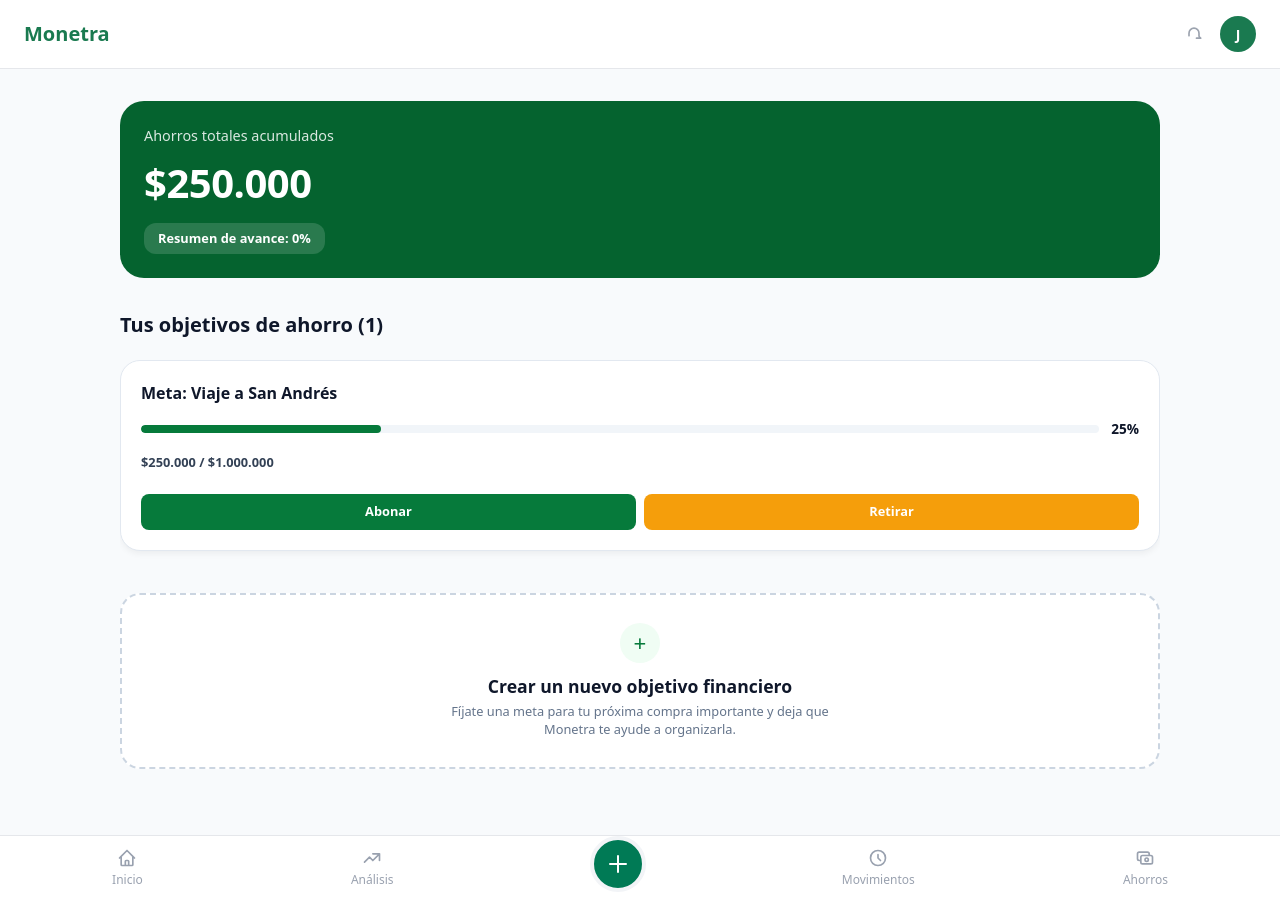
Test case: SavingsView — editar y eliminar una meta › abre el modal de edición con los datos de la meta precargados al hacer clic en la tarjeta
Click the text "Meta: Viaje a San Andrés". click: (239, 393)
box: [141,381,337,405]
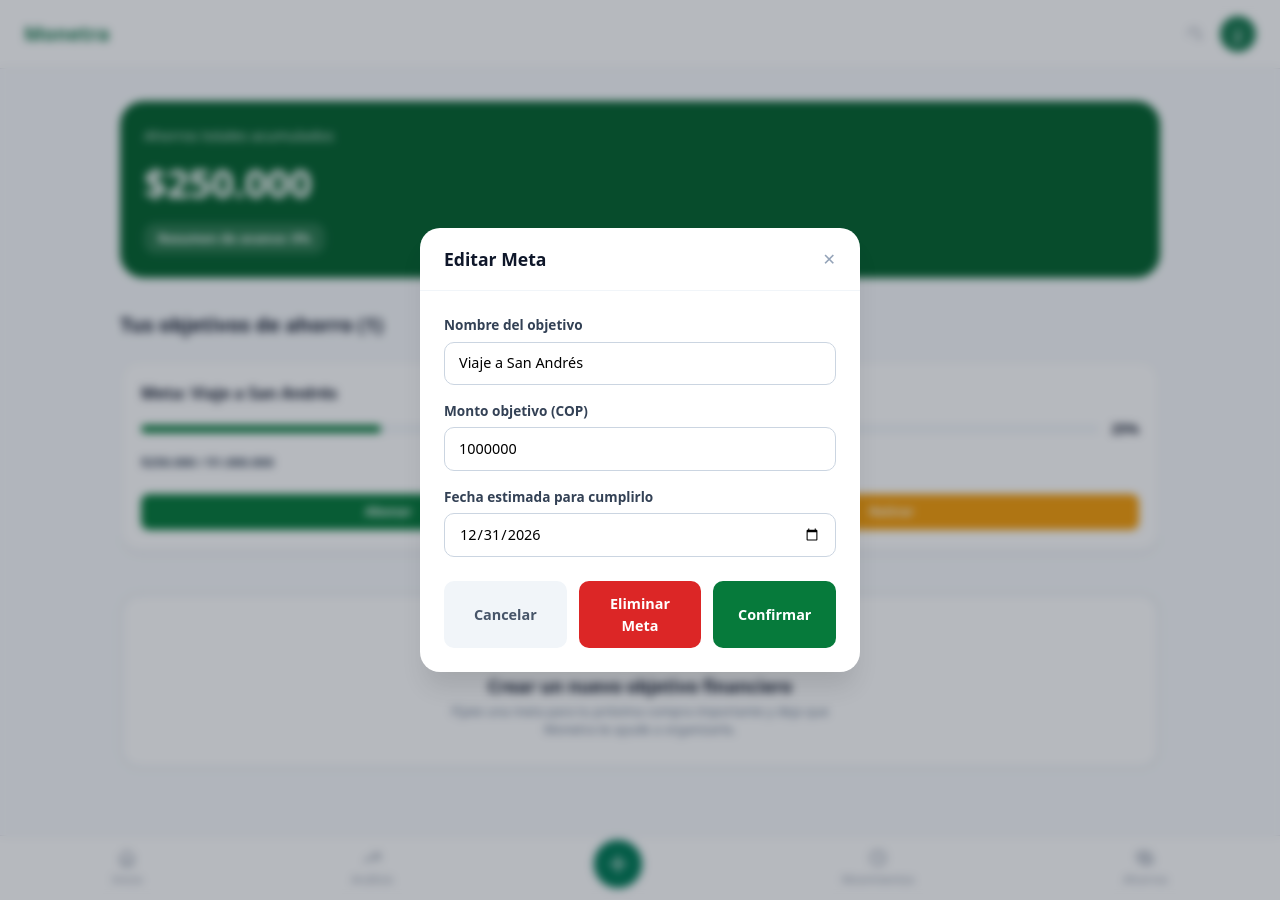
Check: the heading "Editar Meta" is shown, box [444,246,546,272]
Check: the field showing "Viaje a San Andrés" is shown, box [444,342,836,385]
Check: the number field showing "1000000" is shown, box [444,428,836,471]
